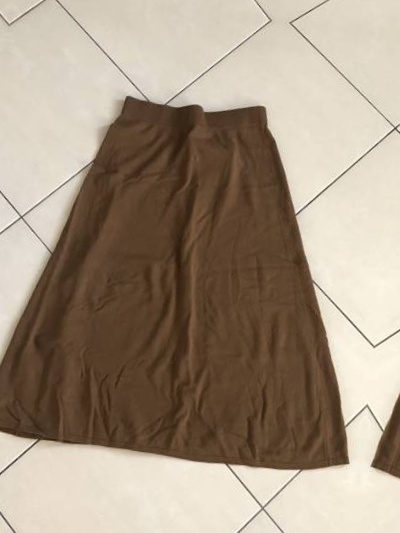Dress: (0, 68, 360, 503), (398, 119, 400, 533)
